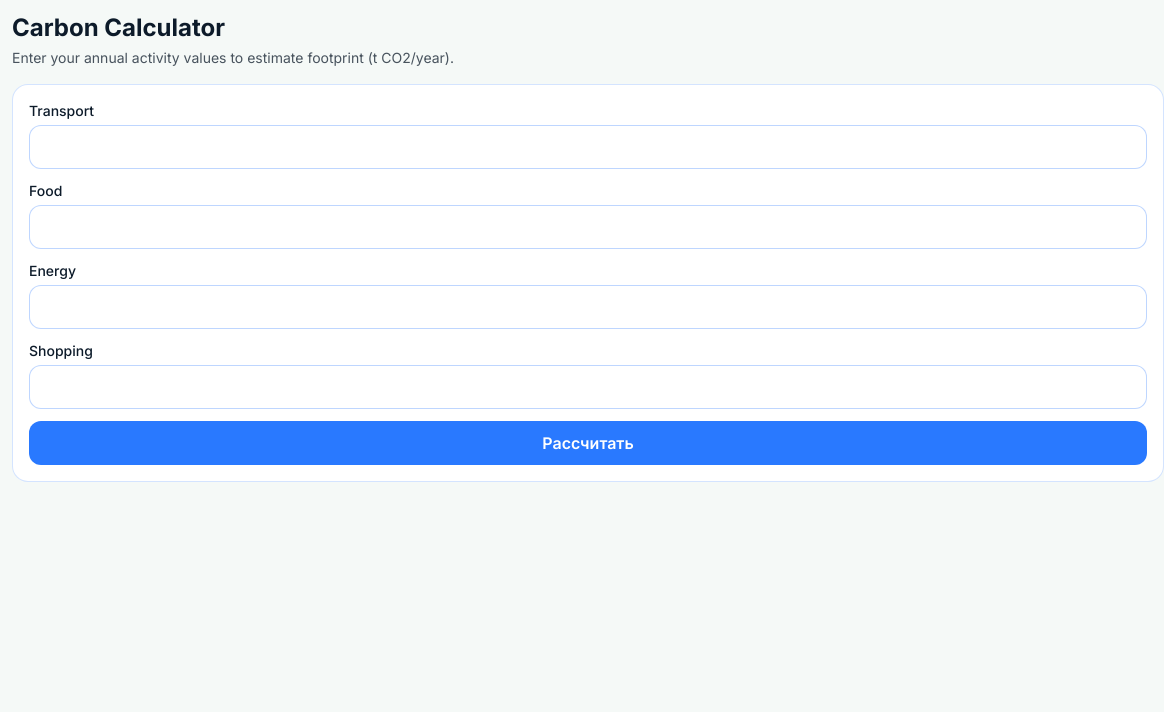
Test: Calculator › calculates 23.00 when energy is 100
Type "100" into the number field labelled "Energy".
click(588, 307); type("100")  # box top-left (29, 285), bottom-right (1147, 329)
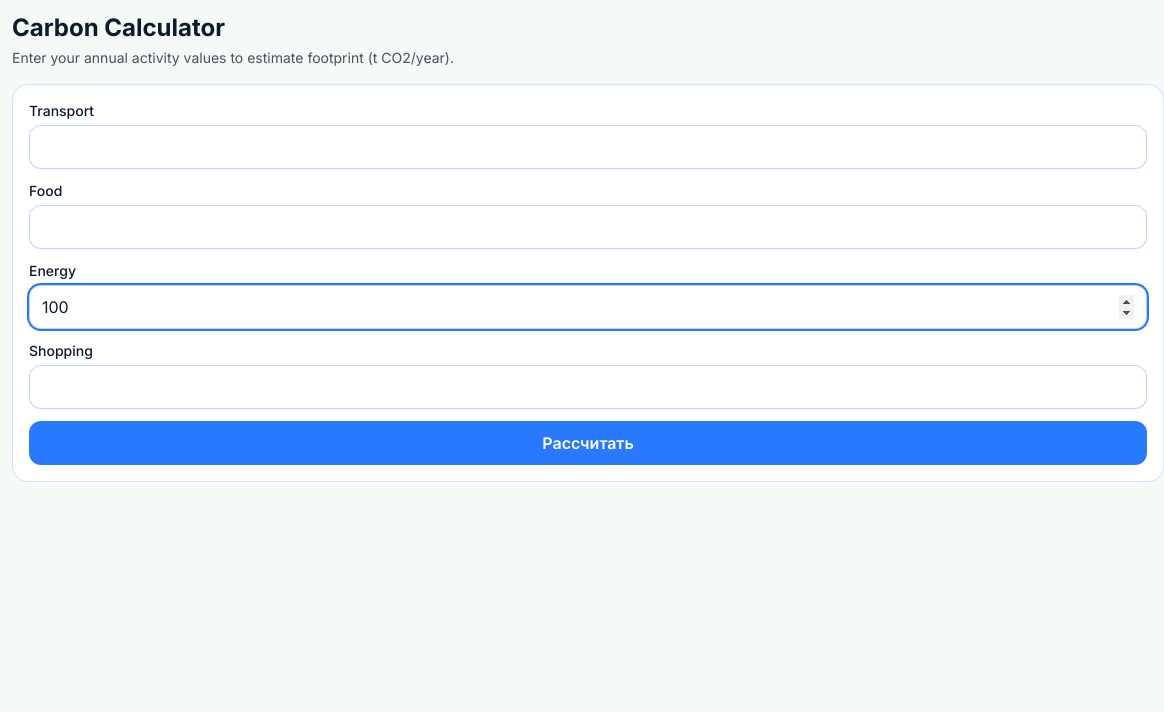
Click the button "Рассчитать".
click(588, 443)  # box top-left (29, 421), bottom-right (1147, 465)
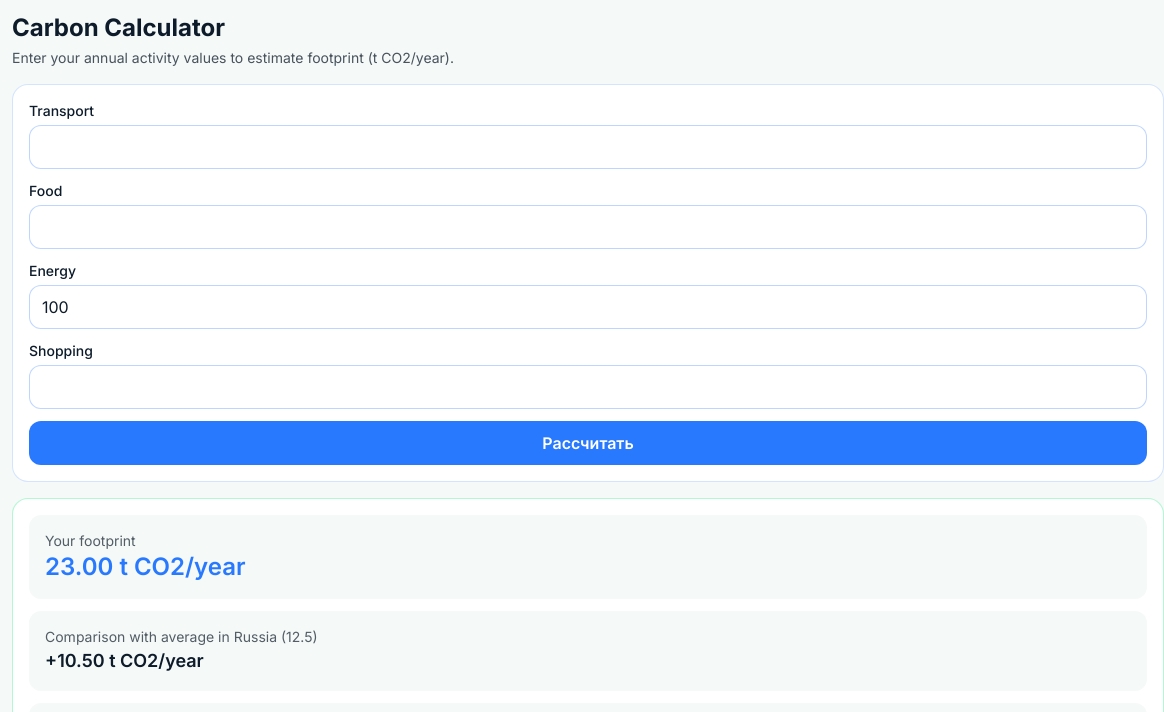
Check: the text "23.00 t CO2/year" is shown, box top-left (45, 552), bottom-right (246, 581)
